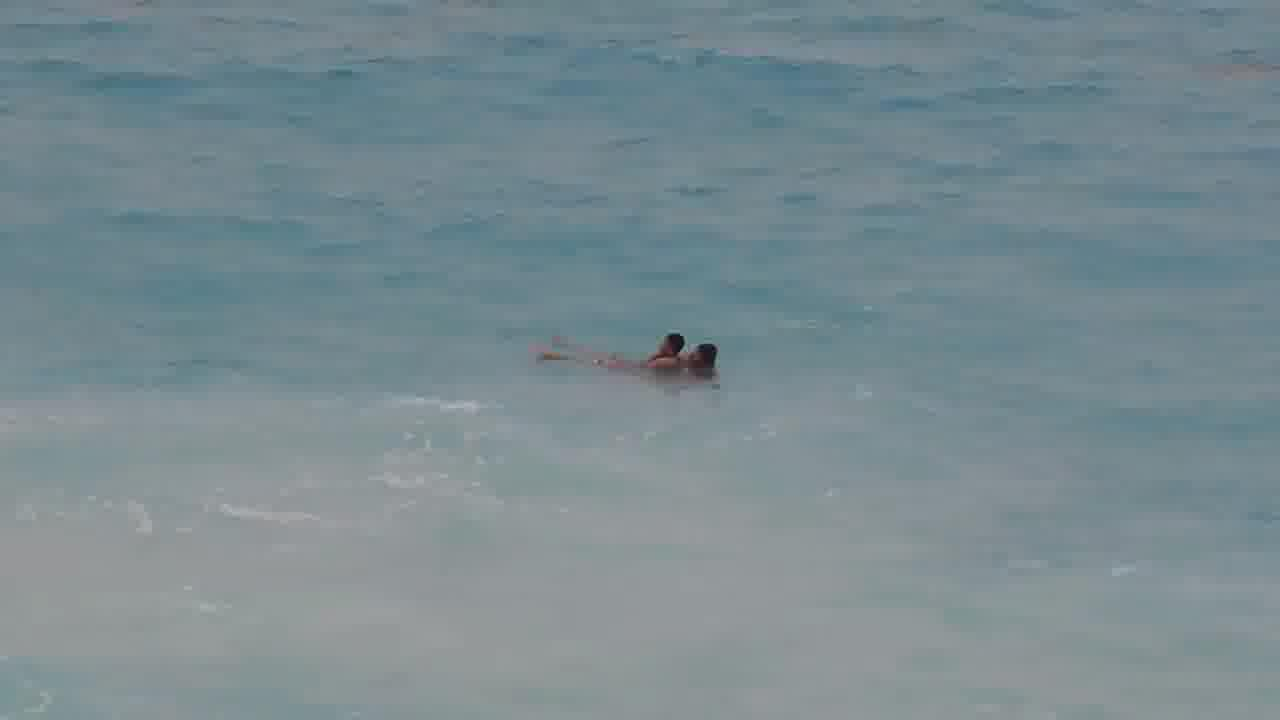swimmer: (527, 321, 682, 370), (682, 332, 743, 387)
